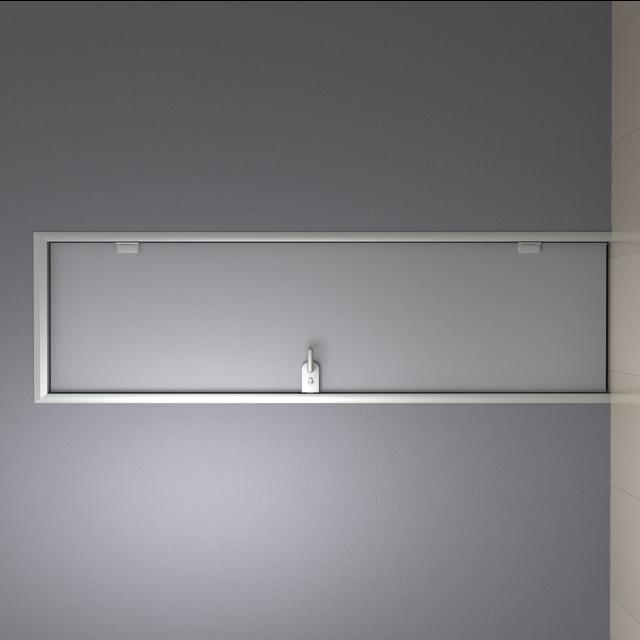close: (39, 232, 600, 396)
